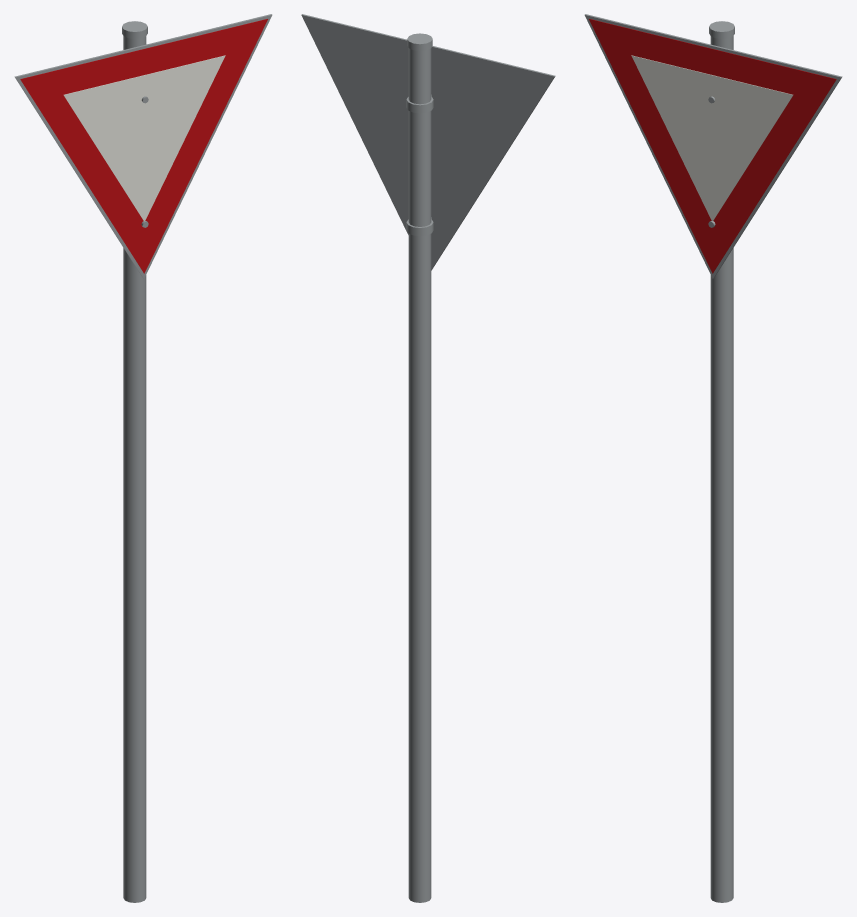
Rendered from sign_give_way.glb.
The picture shows the model from 3 angles, left to right: view 1: azimuth 30°, elevation 25°; view 2: azimuth 150°, elevation 25°; view 3: azimuth 330°, elevation 25°; orthographic projection.
Visible parts, largest first — view 1: Plate, Pole; view 2: Plate, Pole; view 3: Plate, Pole.
Part boxes in pixels (x1,y1,x2,y2): Plate: (14, 14, 272, 278); Pole: (122, 21, 147, 902); Plate: (301, 14, 555, 270); Pole: (406, 33, 433, 902); Plate: (584, 14, 842, 278); Pole: (709, 21, 734, 902).
Size of the model in its own units: 0.7777 by 2.52 by 0.093.
